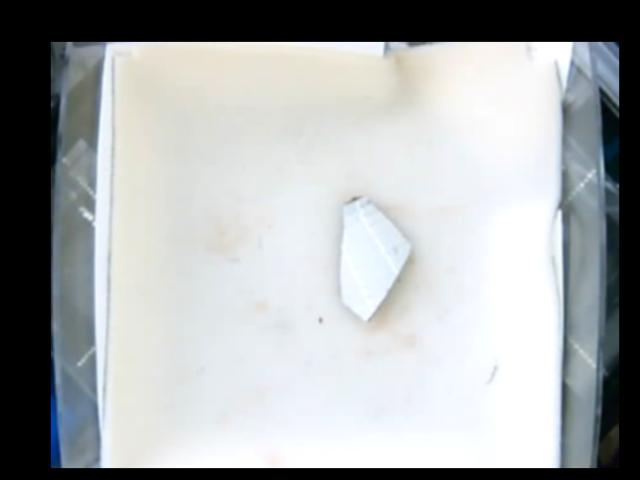China: (337, 194, 412, 321)
